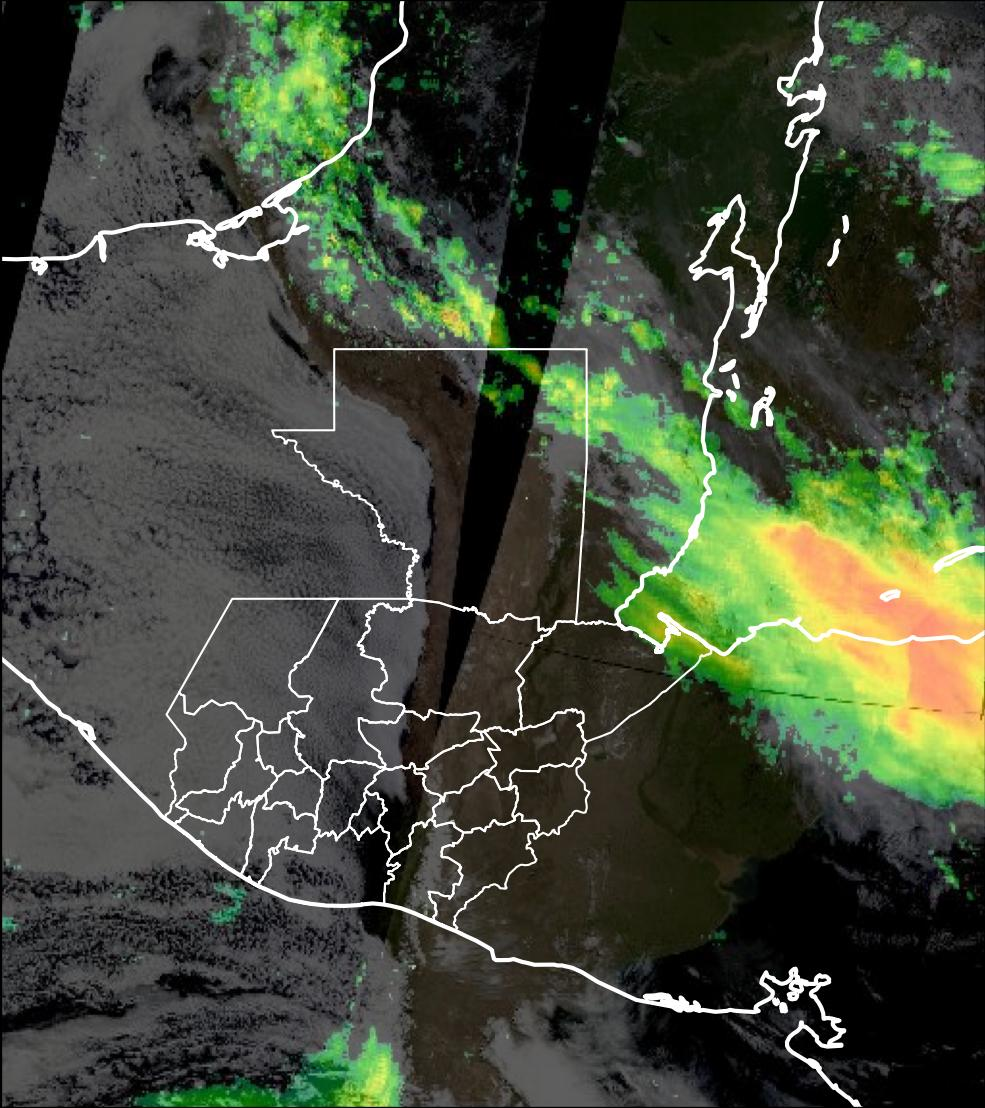precipitacion: (773, 518, 985, 748)
